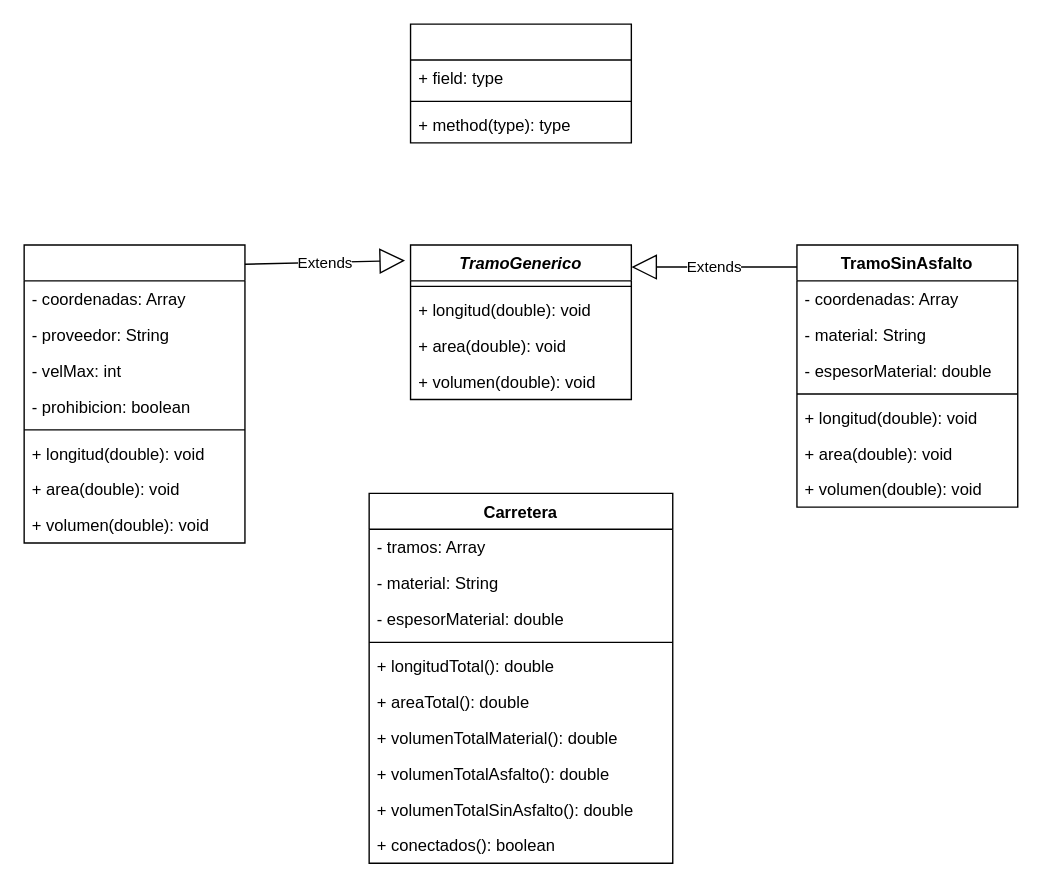
The diagram is 1042 pixels wide and 891 high, and some of its shapes have lost their labels. The box of each missing label's shape, as (x1, y1, x2, y2) in pixels:
Main: (409, 23, 631, 143)
TramoAsfalto: (23, 244, 245, 543)
